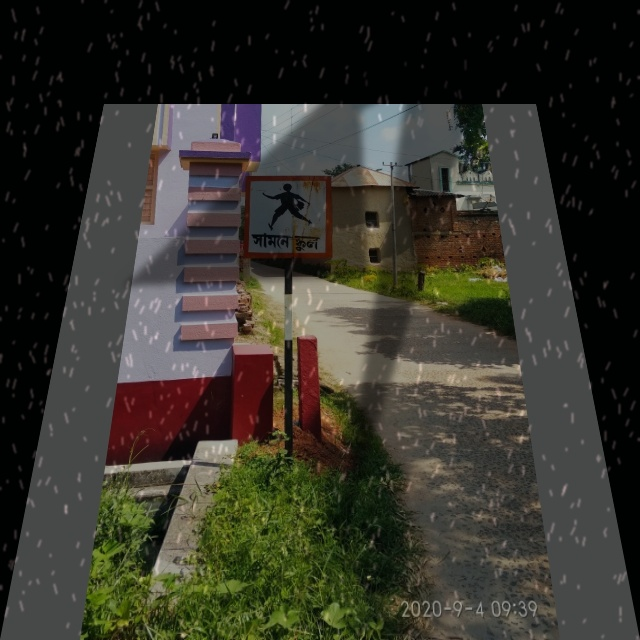School_Ahead: (246, 176, 330, 255)
